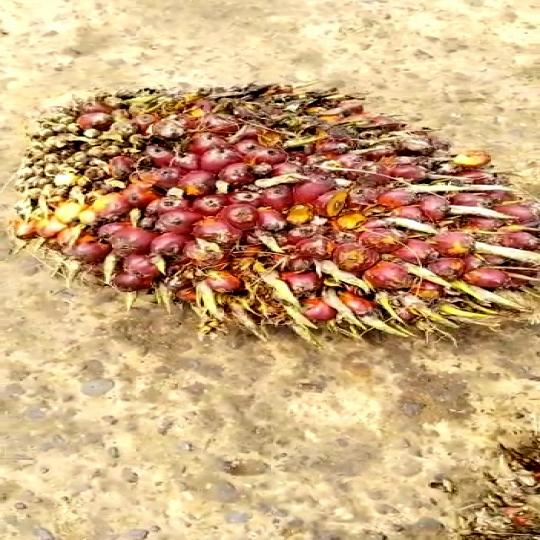masak: (9, 82, 540, 343)
